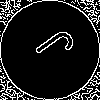J: (25, 25, 77, 72)
